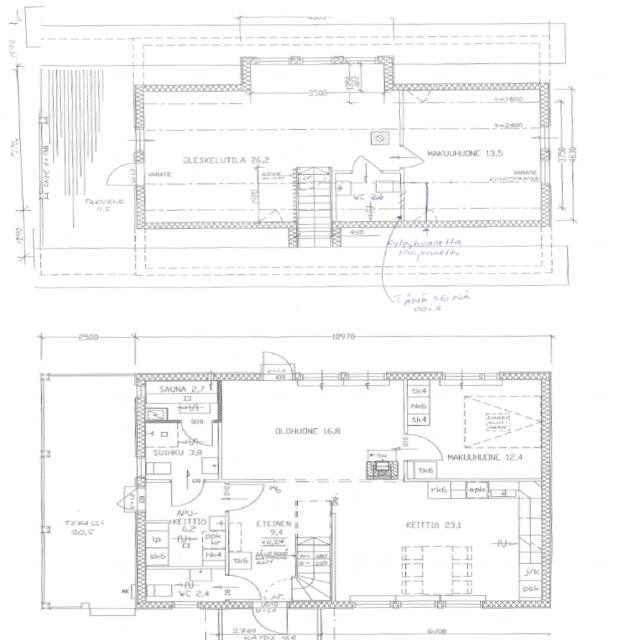door: (251, 600, 288, 637), (225, 484, 265, 511), (403, 433, 442, 460), (225, 574, 261, 600), (262, 351, 292, 382), (172, 479, 204, 508), (105, 488, 146, 510), (180, 420, 212, 448), (107, 162, 145, 185), (352, 148, 381, 174), (399, 146, 432, 168)
